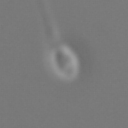normal: (31, 1, 63, 45)
